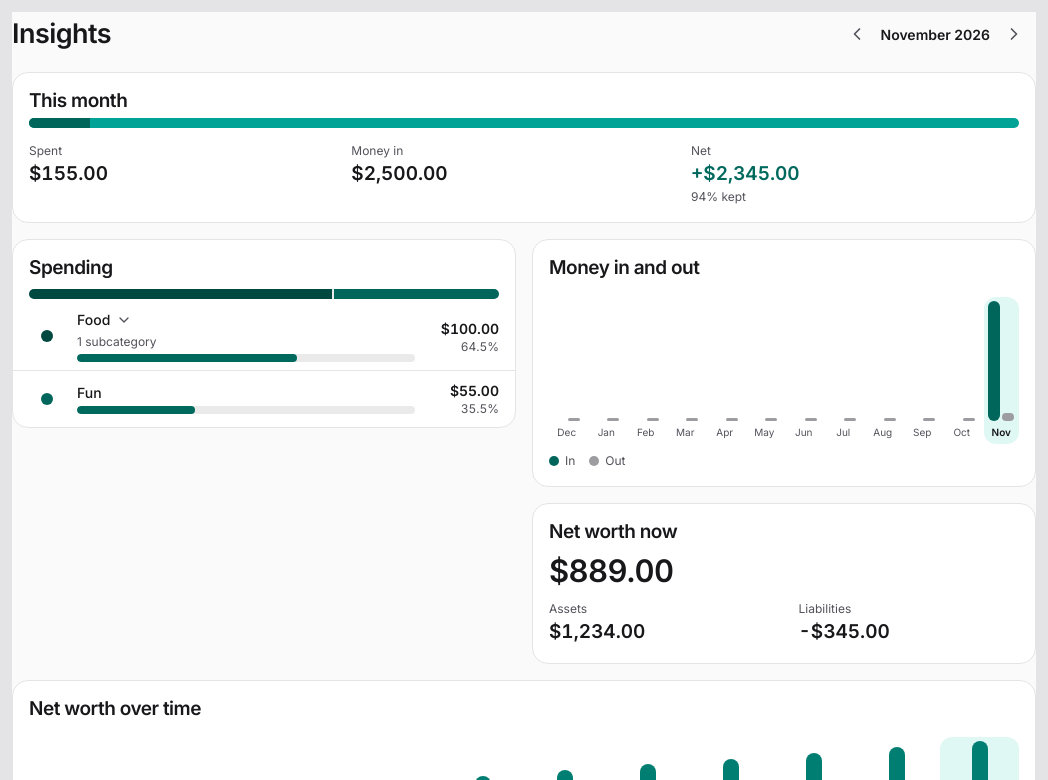
Scenario: InsightsPage › expands a parent to its subcategories and its own entries
Expected: the text "Groceries" is not shown
Click the button "Food 1 subcategory $100.00 64.5%".
click(94, 319)  # box [13,303,515,370]
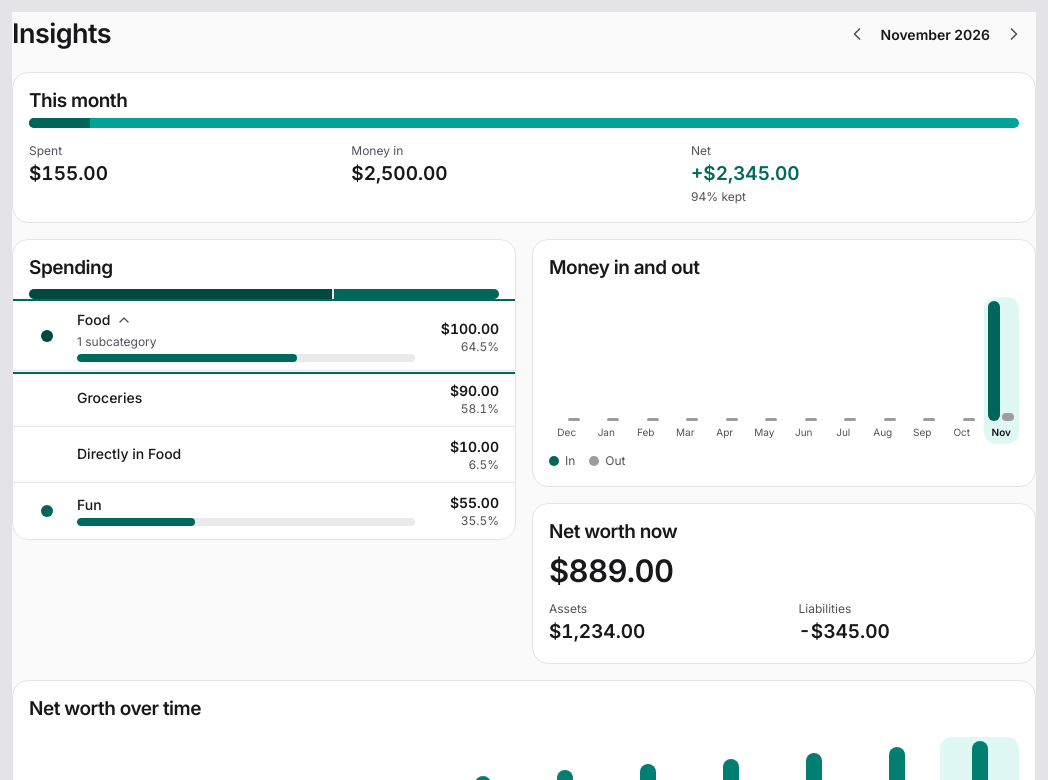
Now the button "Food 1 subcategory $100.00 64.5%" is expanded
Now the link "Groceries $90.00 58.1%" is shown, box [13,370,515,426]
Now the link "Directly in Food $10.00 6.5%" is shown, box [13,426,515,482]
Click the button "Food 1 subcategory $100.00 64.5%".
click(94, 319)  # box [13,303,515,370]
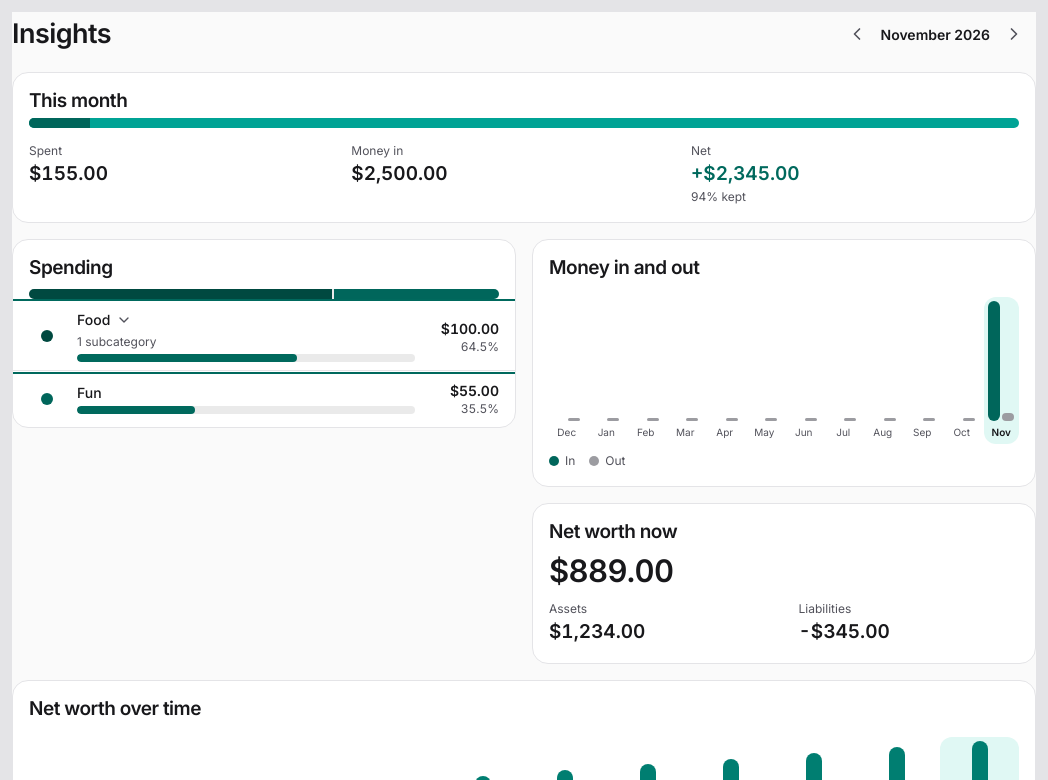
Now the link "Groceries" is gone
